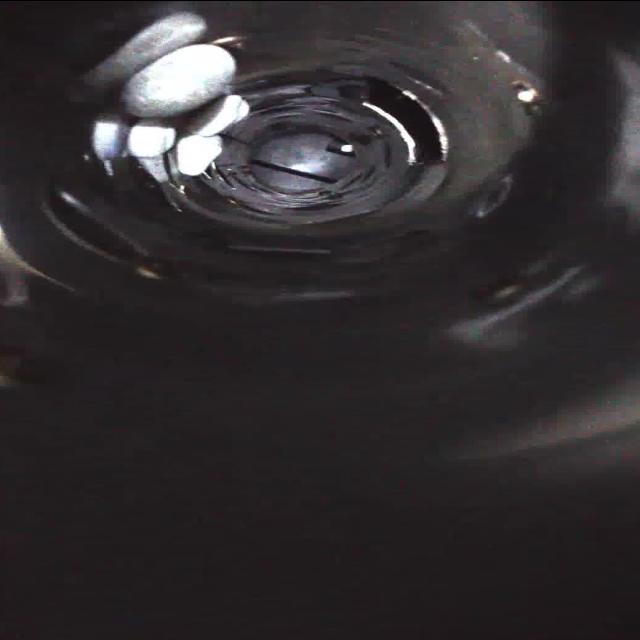crack: (186, 156, 245, 192), (234, 90, 304, 120), (217, 194, 286, 224), (304, 90, 360, 124), (194, 122, 247, 150), (356, 175, 394, 208), (292, 197, 338, 220), (372, 137, 400, 173)
hole: (362, 71, 466, 164)
